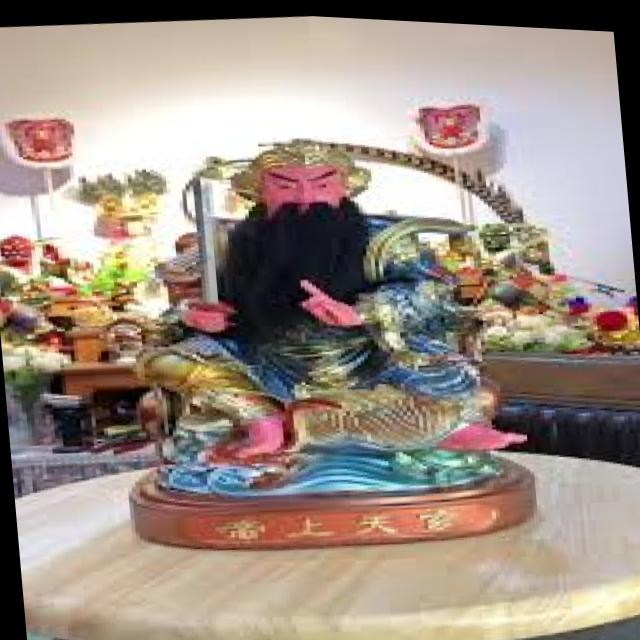Xuan wu: (146, 109, 528, 487)
